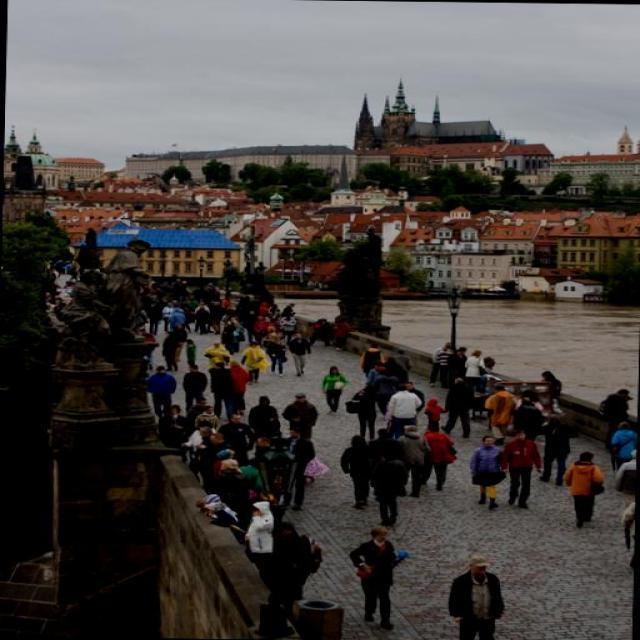flood: (380, 285, 639, 408)
